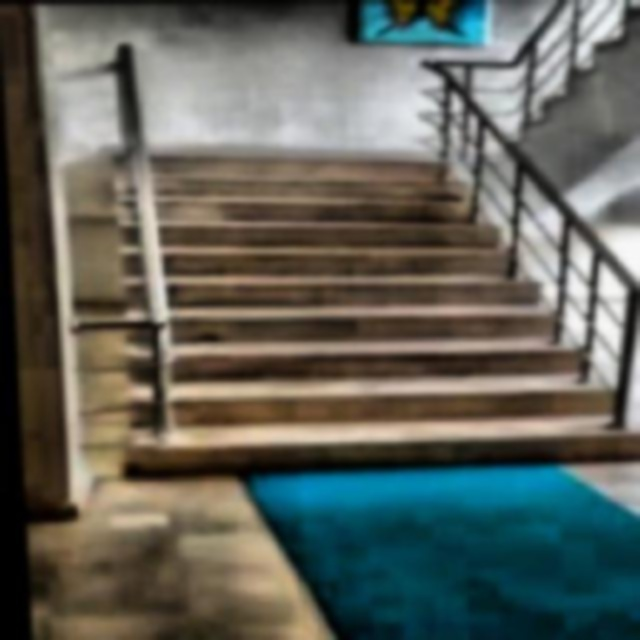stair: (107, 151, 636, 466)
